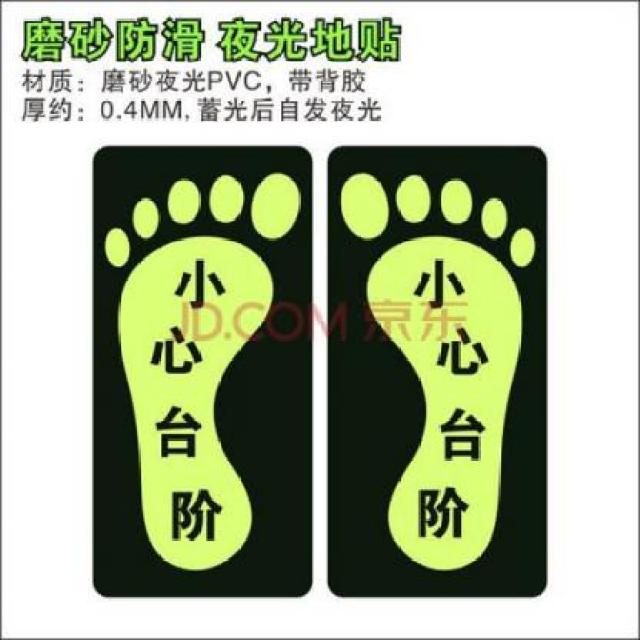exit_sign: (318, 137, 576, 603), (88, 129, 313, 605)
